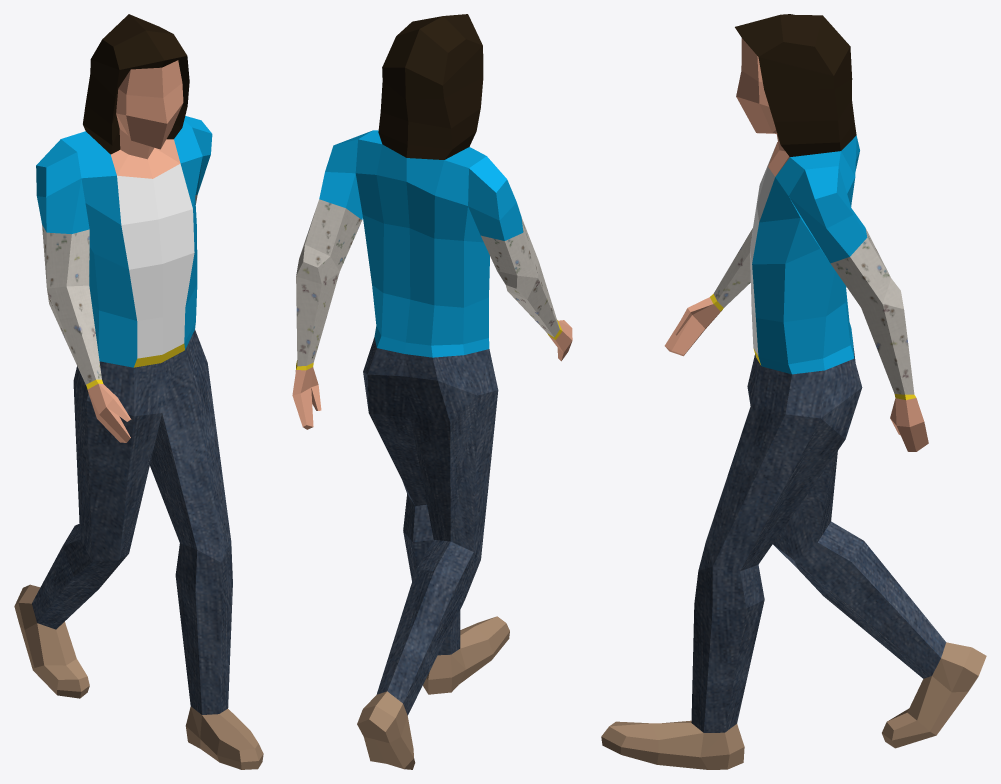
File: SpringGirl.010.glb
3 renders of one model, left to right at view 1: azimuth 30°, elevation 25°; view 2: azimuth 150°, elevation 25°; view 3: azimuth 270°, elevation 25°, orthographic. The views are drawn at different scales.
Parts seen in each view (by area): view 1: SpringGirl.010; view 2: SpringGirl.010; view 3: SpringGirl.010.
Boxes of the visible parts, <box> form: SpringGirl.010: <box>14,14,263,769</box>; SpringGirl.010: <box>292,14,572,769</box>; SpringGirl.010: <box>601,14,986,769</box>.
Bounding box in the file's own units: 0.3346 × 1.17 × 0.5556.
1 material, 1 textured.
